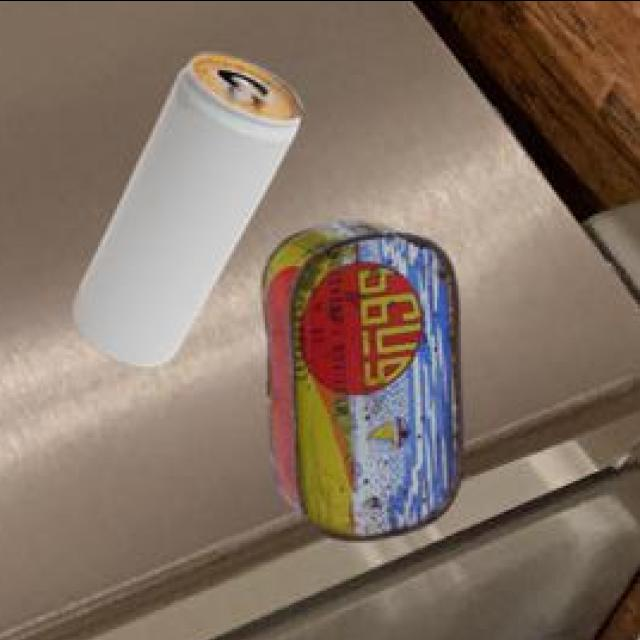logam: (68, 49, 297, 362), (259, 216, 460, 536)
